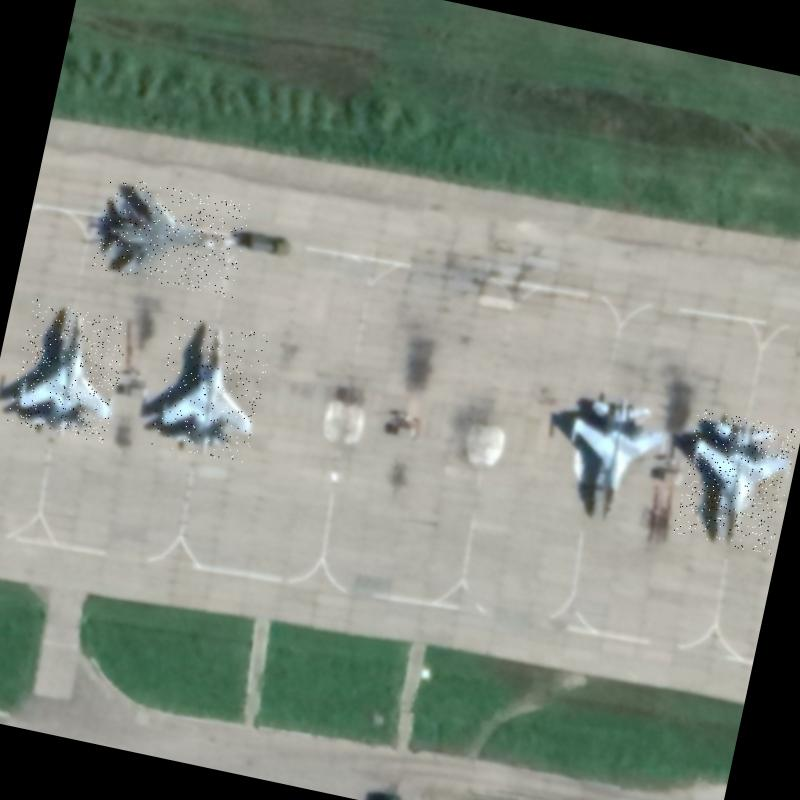A1: (90, 175, 253, 299), (550, 384, 678, 532), (672, 408, 799, 556), (148, 316, 274, 464), (7, 298, 132, 443)
